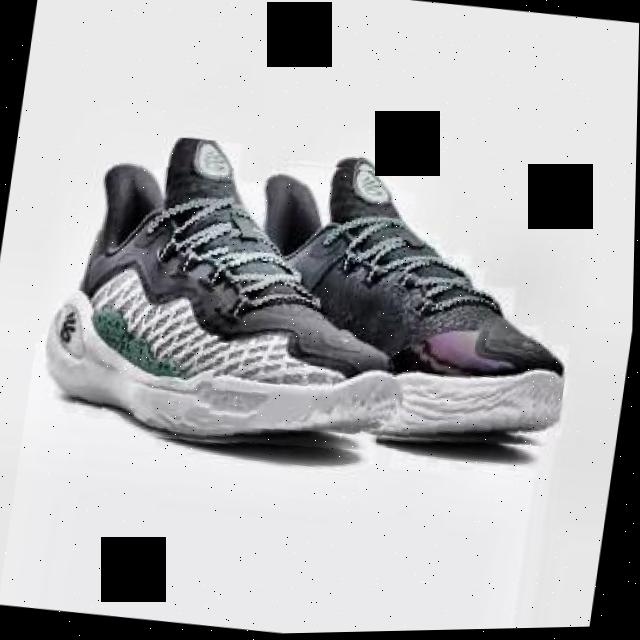shoe: (36, 121, 422, 472), (202, 152, 593, 468)
